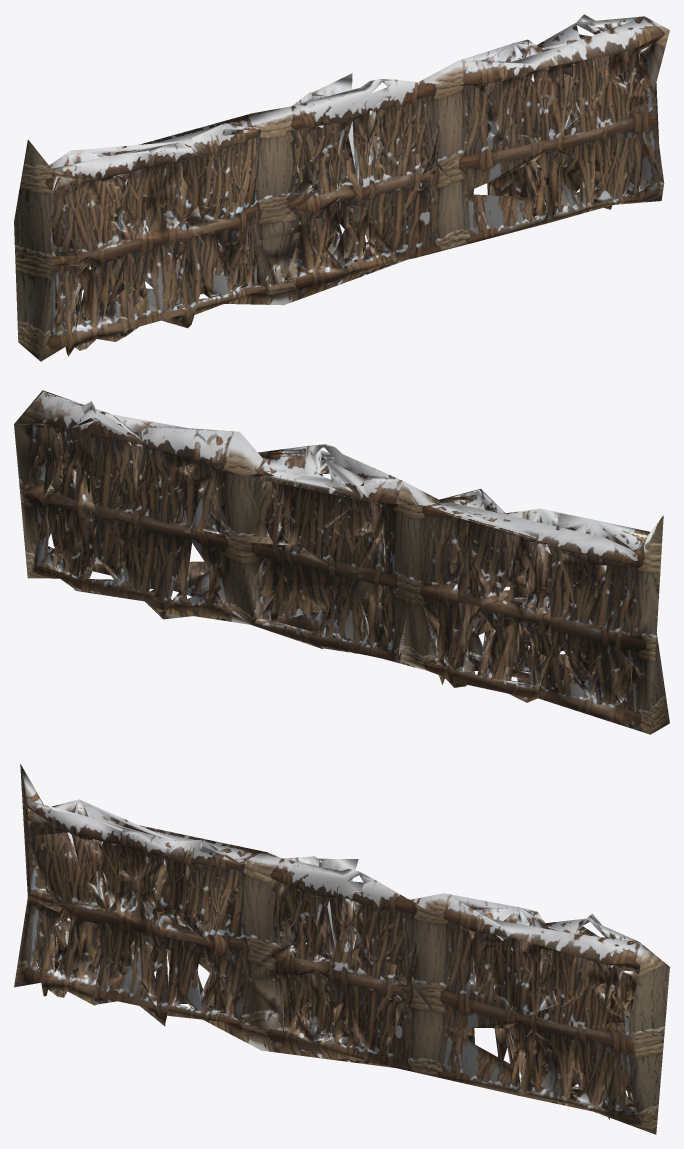
The model's file is PR_SsariFence.fbx.
3 renders of one model, top to bottom at view 1: azimuth 30°, elevation 25°; view 2: azimuth 150°, elevation 25°; view 3: azimuth 330°, elevation 25°, orthographic.
Parts seen in each view (by area): view 1: texture_mapping; view 2: texture_mapping; view 3: texture_mapping.
Boxes of the visible parts, x1=… form: texture_mapping: x1=14, y1=14, x2=669, y2=361; texture_mapping: x1=14, y1=390, x2=669, y2=734; texture_mapping: x1=14, y1=764, x2=669, y2=1134.
Size of the model in its own units: 0.9379 by 0.0648 by 0.3087.
Materials: 1 (1 with a texture image).
